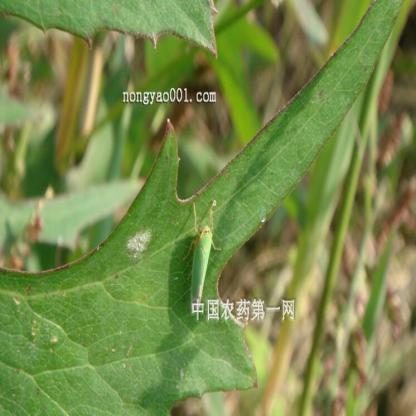Green-Leafhopper: (185, 196, 223, 319)
